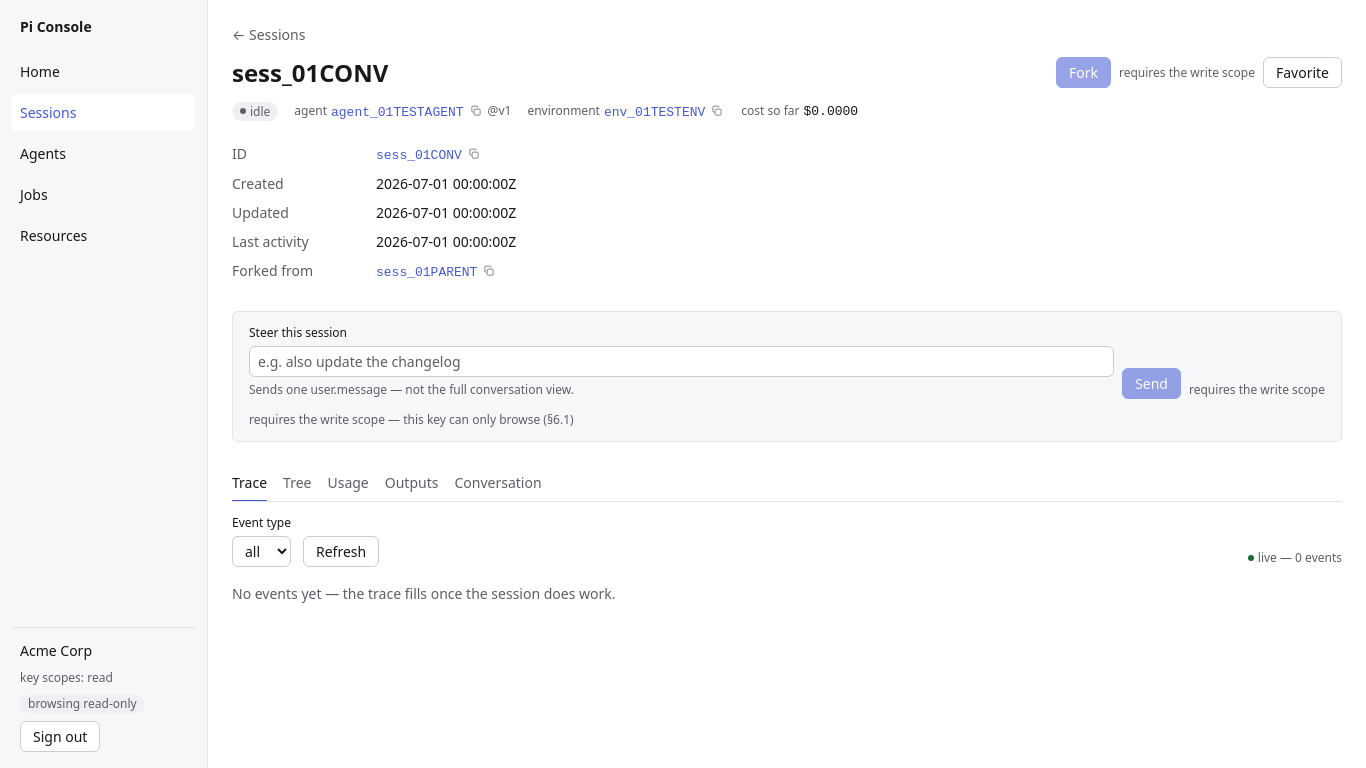
Test: empty and edge states › a fork states the shared-seed boundary in place (DP-6)
The image size is (1366, 768).
Check: the element named "Session detail" is shown, box [232,466,1342,502]
What coordinates should you click on to do the following:
click the tab "Conversation"
I would click on:
 (498, 484)
Its box is [454,466,542,502].
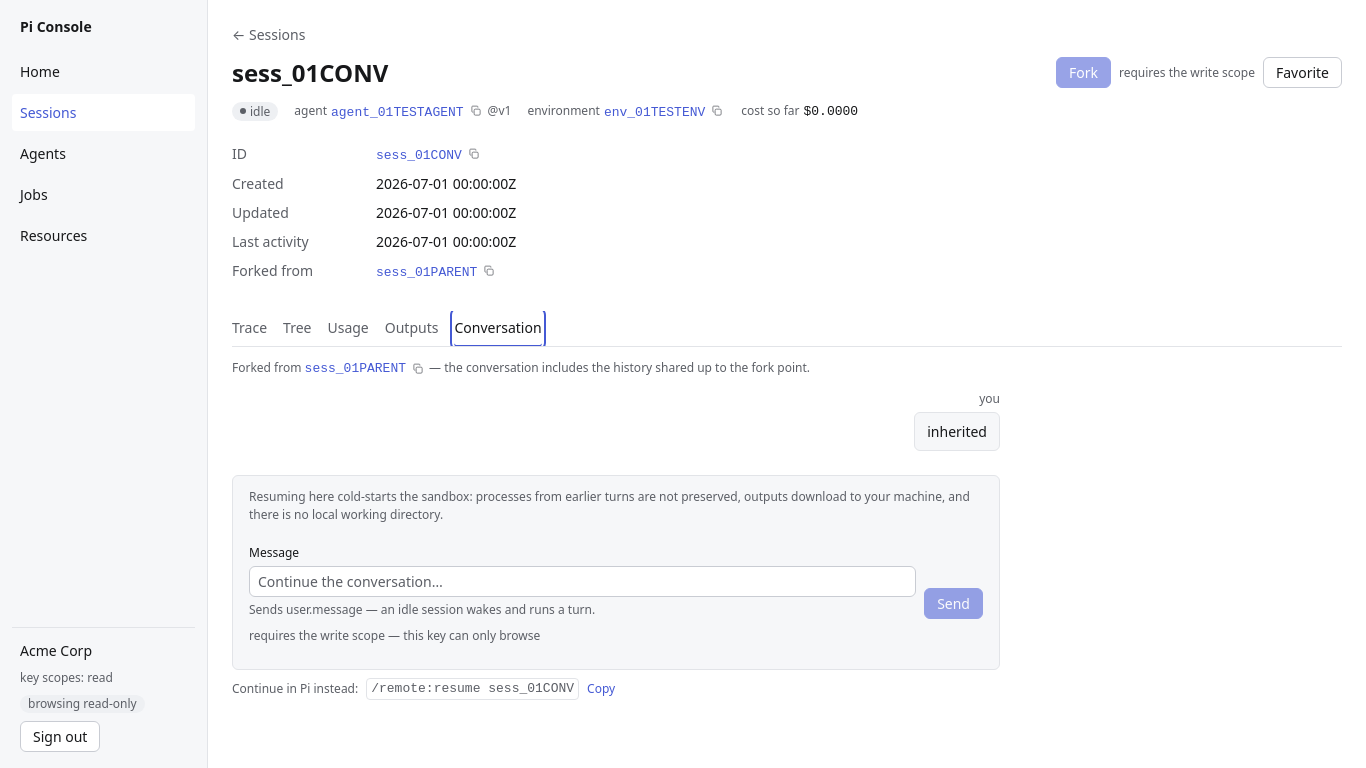
Check: the text "history shared up to the fork point" is shown, box [426,359,810,376]
